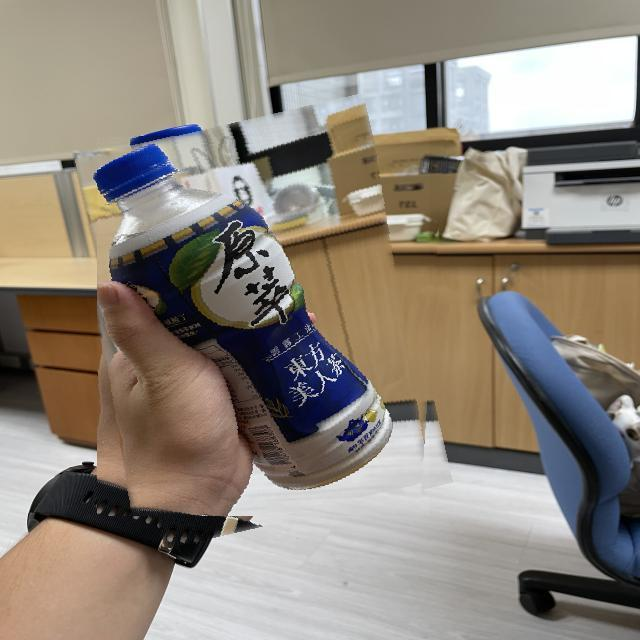YuanTsui_MeiRen: (97, 137, 429, 516)
